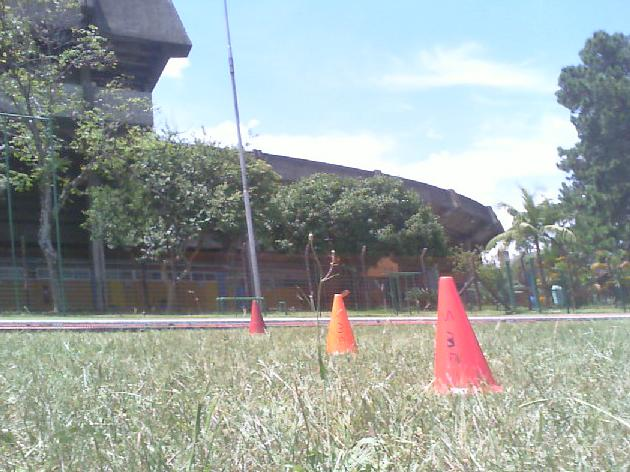0 cone: (428, 277, 500, 396), (322, 294, 358, 354), (249, 300, 267, 333)
